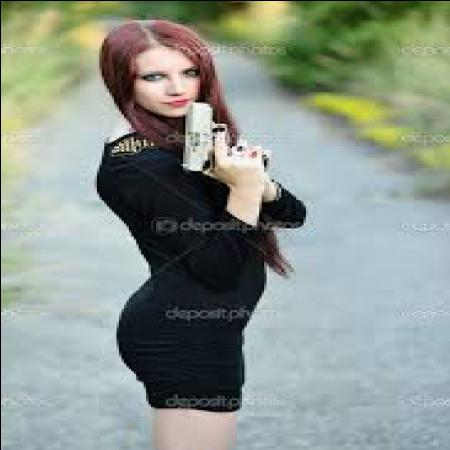Pistol: (172, 97, 266, 175)
